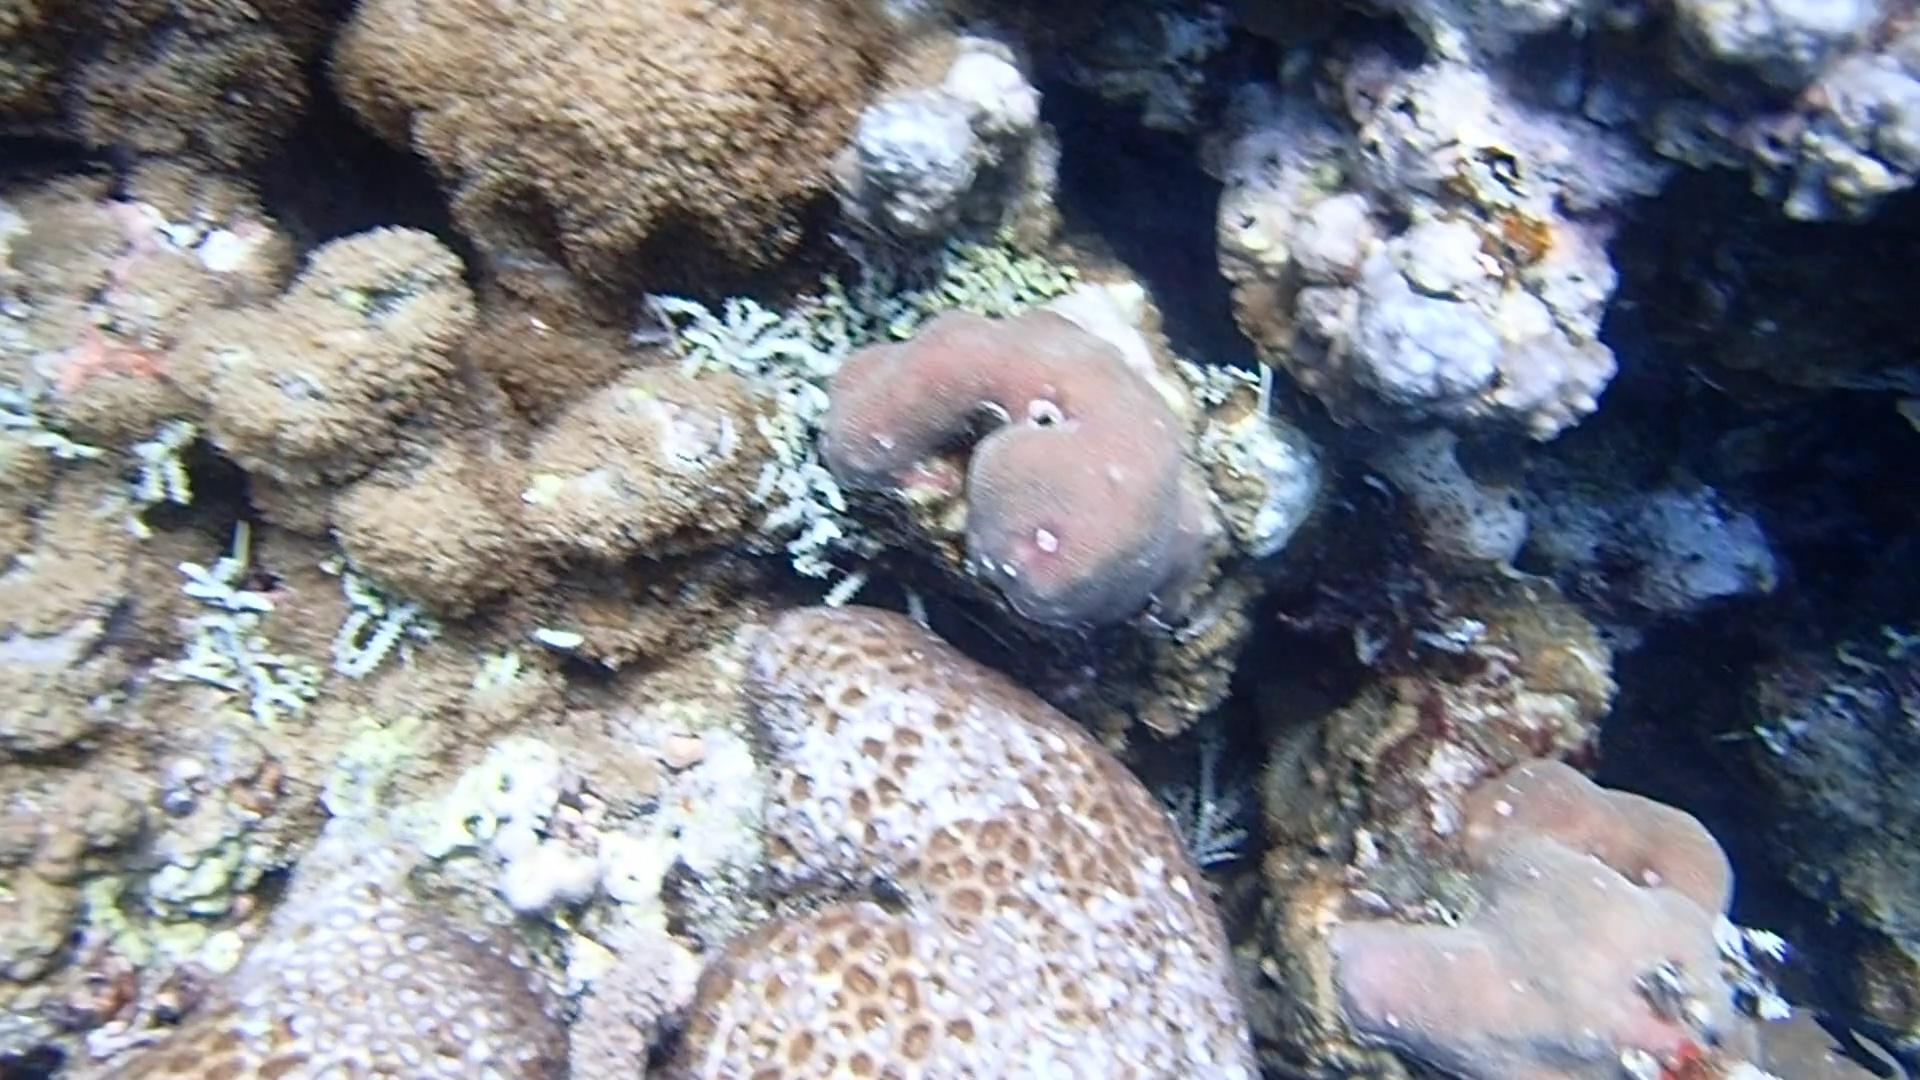Dark Fish: (1803, 1002, 1902, 1080)
